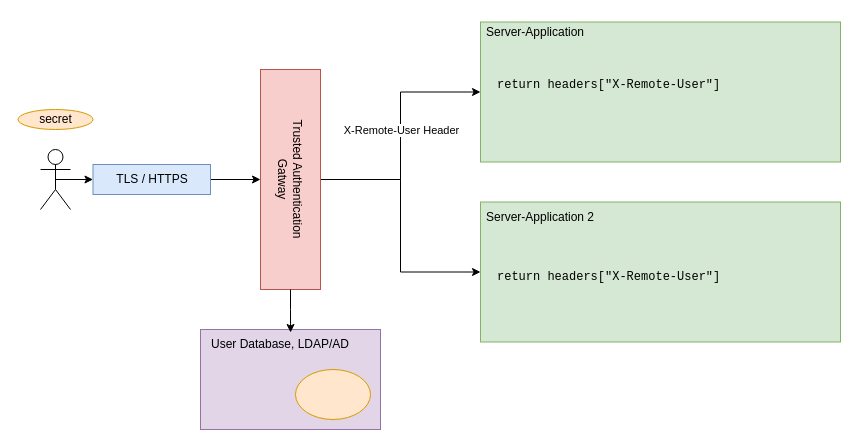
This 858x447 diagram has some shape labels left out. The shapes that lost their labels are listed below. From the top down, each one's centre as x and y in pixels, then its label:
[55,179]: Actor
[332,394]: salted/hashed secret
